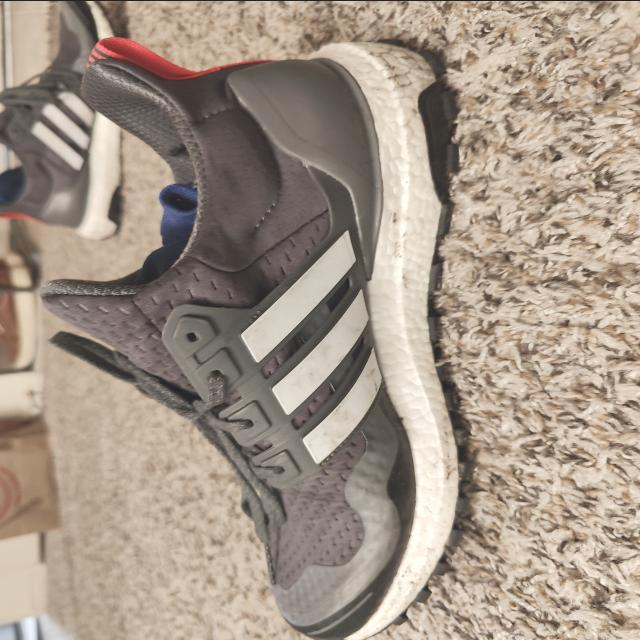black shoes: (44, 35, 450, 638)
